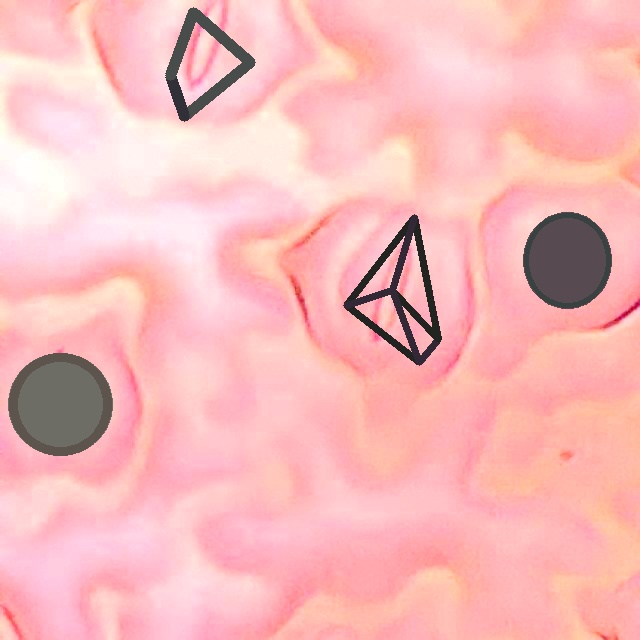open: (343, 214, 441, 365), (9, 353, 112, 456), (165, 7, 255, 120), (523, 211, 611, 308)
